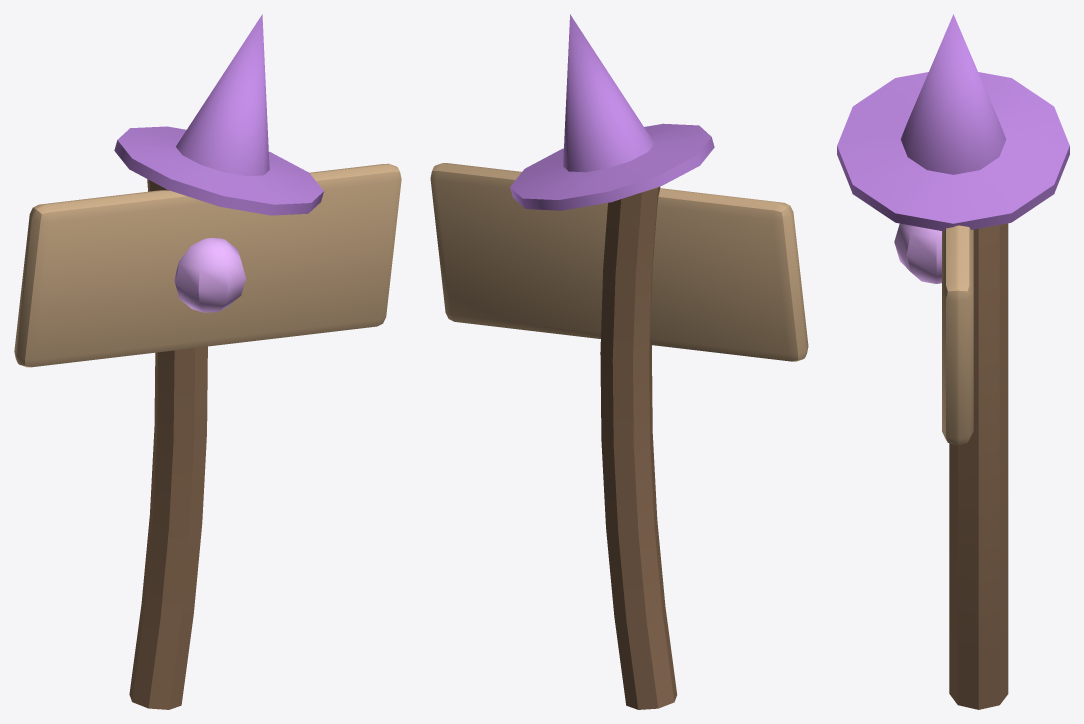
File: WitchSign_A.fbx
3 views of the same model, side by side, from view 1: azimuth 30°, elevation 25°; view 2: azimuth 150°, elevation 25°; view 3: azimuth 270°, elevation 25° (orthographic). The views are drawn at different scales.
Parts seen in each view (by area): view 1: WitchSign_A; view 2: WitchSign_A; view 3: WitchSign_A.
Part boxes in pixels (bbox=[...]): WitchSign_A: bbox=[14, 14, 401, 709]; WitchSign_A: bbox=[430, 14, 808, 709]; WitchSign_A: bbox=[837, 14, 1069, 709].
Bounding box in the file's own units: 2.28 × 3.83 × 1.1.
